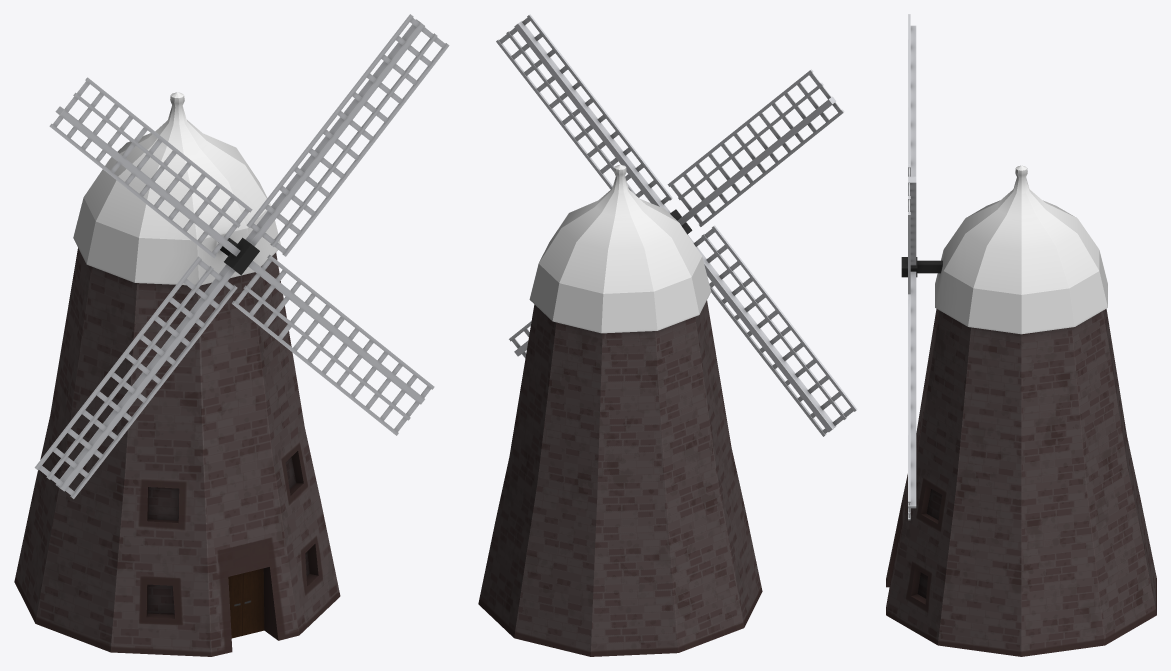
File: Windmill(1).obj
3 views of the same model, side by side, from view 1: azimuth 30°, elevation 25°; view 2: azimuth 150°, elevation 25°; view 3: azimuth 270°, elevation 25° (orthographic). The views are drawn at different scales.
Parts seen in each view (by area): view 1: Windmill_Mesh; view 2: Windmill_Mesh; view 3: Windmill_Mesh.
Boxes of the visible parts, x1,y1,x2,y2 form: Windmill_Mesh: (14,14,449,656); Windmill_Mesh: (478,14,857,656); Windmill_Mesh: (886,14,1156,656).
Bounding box in the file's own units: 5.92 × 8.16 × 3.87.
Materials: 1 (1 with a texture image).
